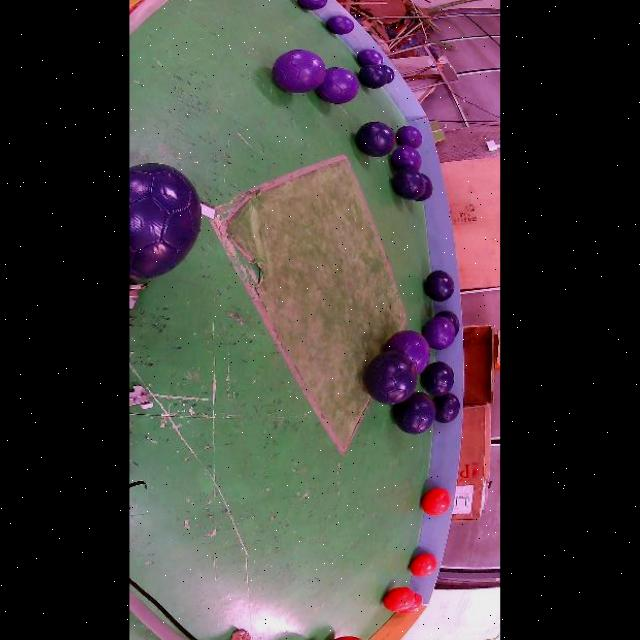B: (128, 163, 200, 279), (362, 351, 415, 404), (392, 391, 435, 434), (354, 122, 395, 157), (419, 362, 453, 397), (391, 167, 424, 199), (423, 270, 453, 301), (432, 393, 458, 424), (357, 66, 385, 88), (435, 310, 458, 335), (413, 175, 432, 202), (381, 65, 393, 84)
P: (271, 50, 325, 93), (383, 331, 429, 373), (315, 68, 358, 104), (421, 317, 454, 350), (389, 145, 420, 171), (395, 126, 422, 149), (325, 16, 353, 35), (356, 48, 382, 65), (297, 0, 325, 10)
R: (420, 488, 450, 515), (382, 588, 414, 612), (408, 554, 436, 577), (399, 594, 420, 613), (331, 636, 359, 640)
